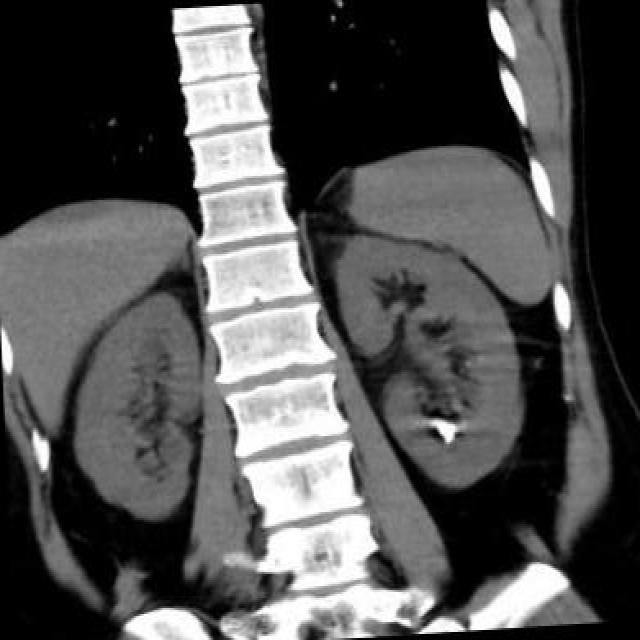Tas_Var: (430, 416, 460, 446)
